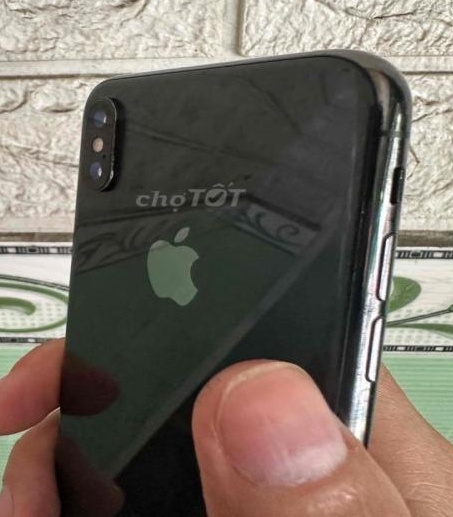scratch: (345, 183, 401, 448)
